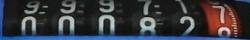digits: (207, 4, 237, 24), (54, 15, 79, 38), (174, 14, 200, 36), (95, 15, 118, 38), (15, 16, 41, 36), (136, 16, 160, 37)
